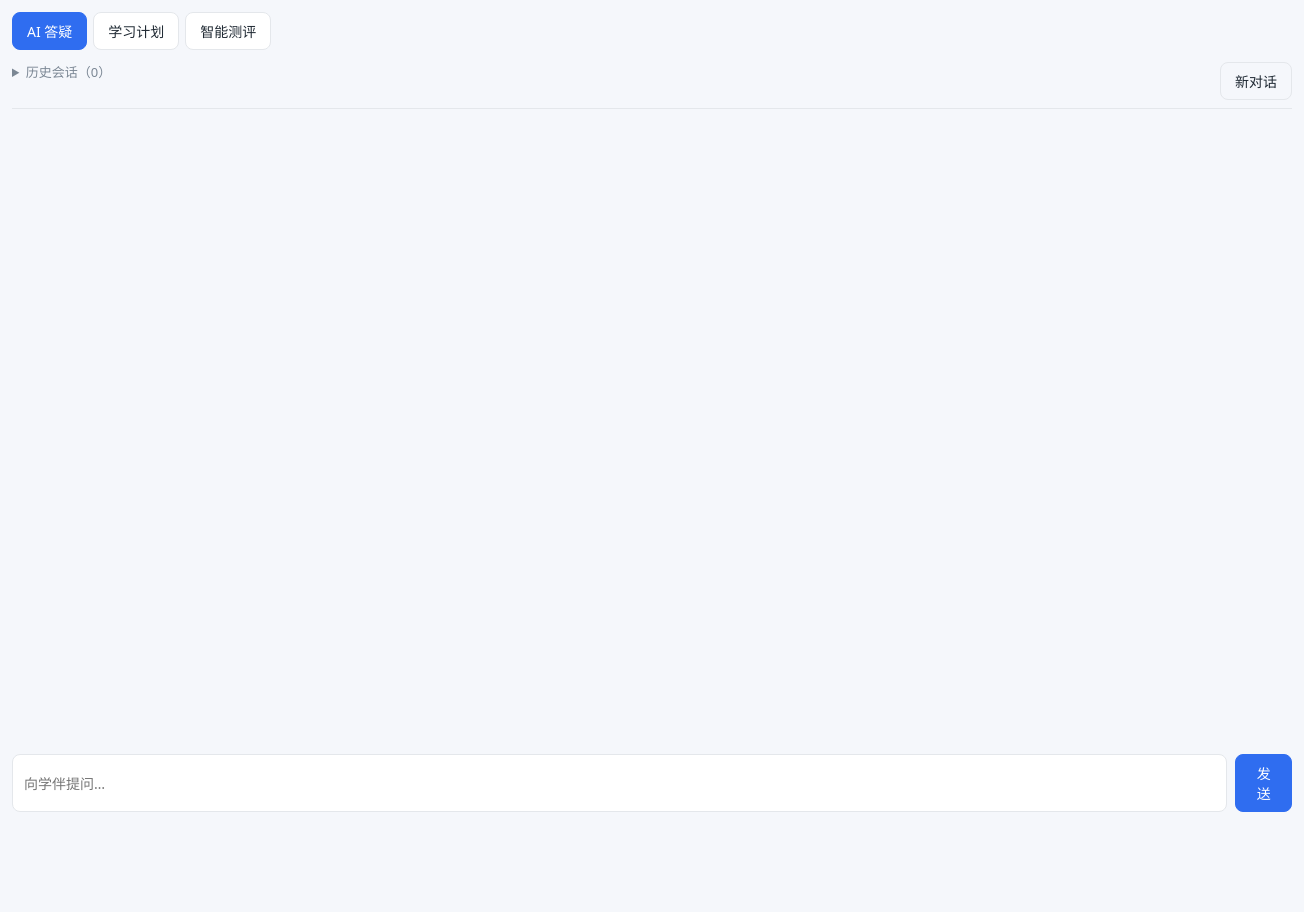
Companion › reports plan generation failures
This screenshot has width=1304, height=912.
Click the button "学习计划".
click(136, 31)  # box [93,12,179,50]
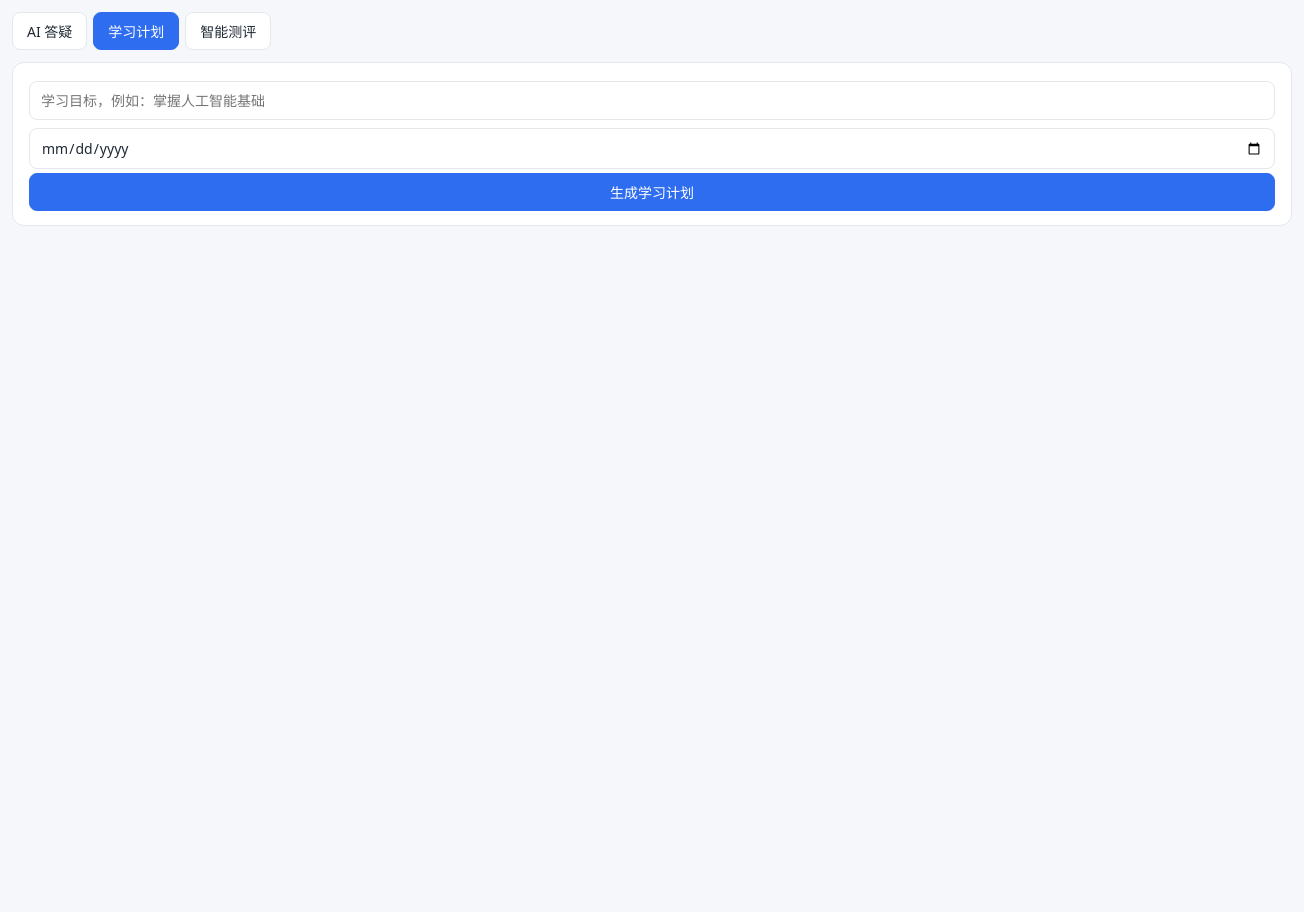
Type "掌握牛顿定律" into the field with placeholder "学习目标，例如：掌握人工智能基础".
click(652, 100); type("掌握牛顿定律")  # box [29,81,1275,120]
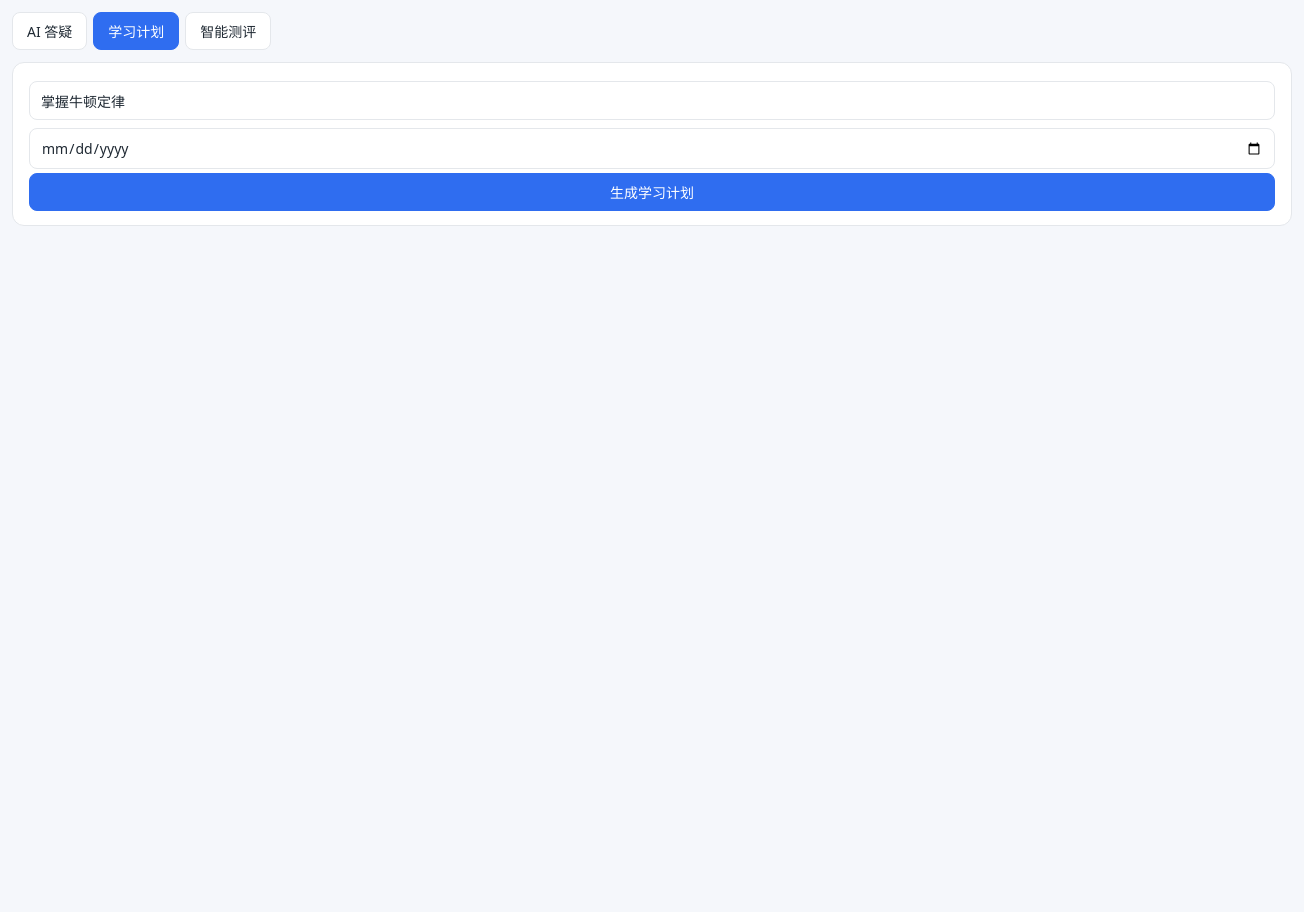
Click the button "生成学习计划".
click(652, 192)  # box [29,173,1275,211]
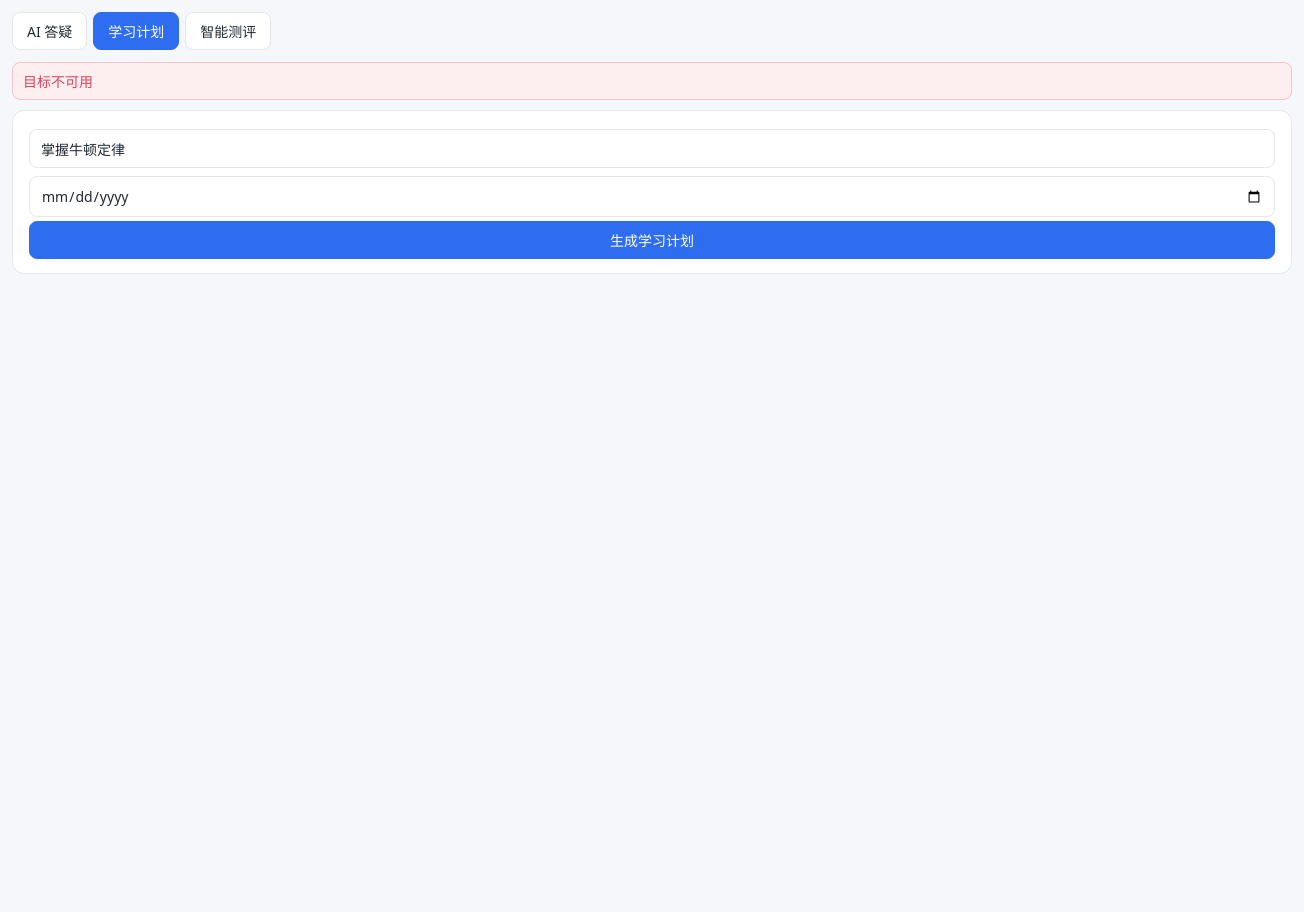
Check: the button "生成学习计划" is shown, box [29,221,1275,259]
Check: the text "目标不可用" is shown, box [12,62,1292,100]
